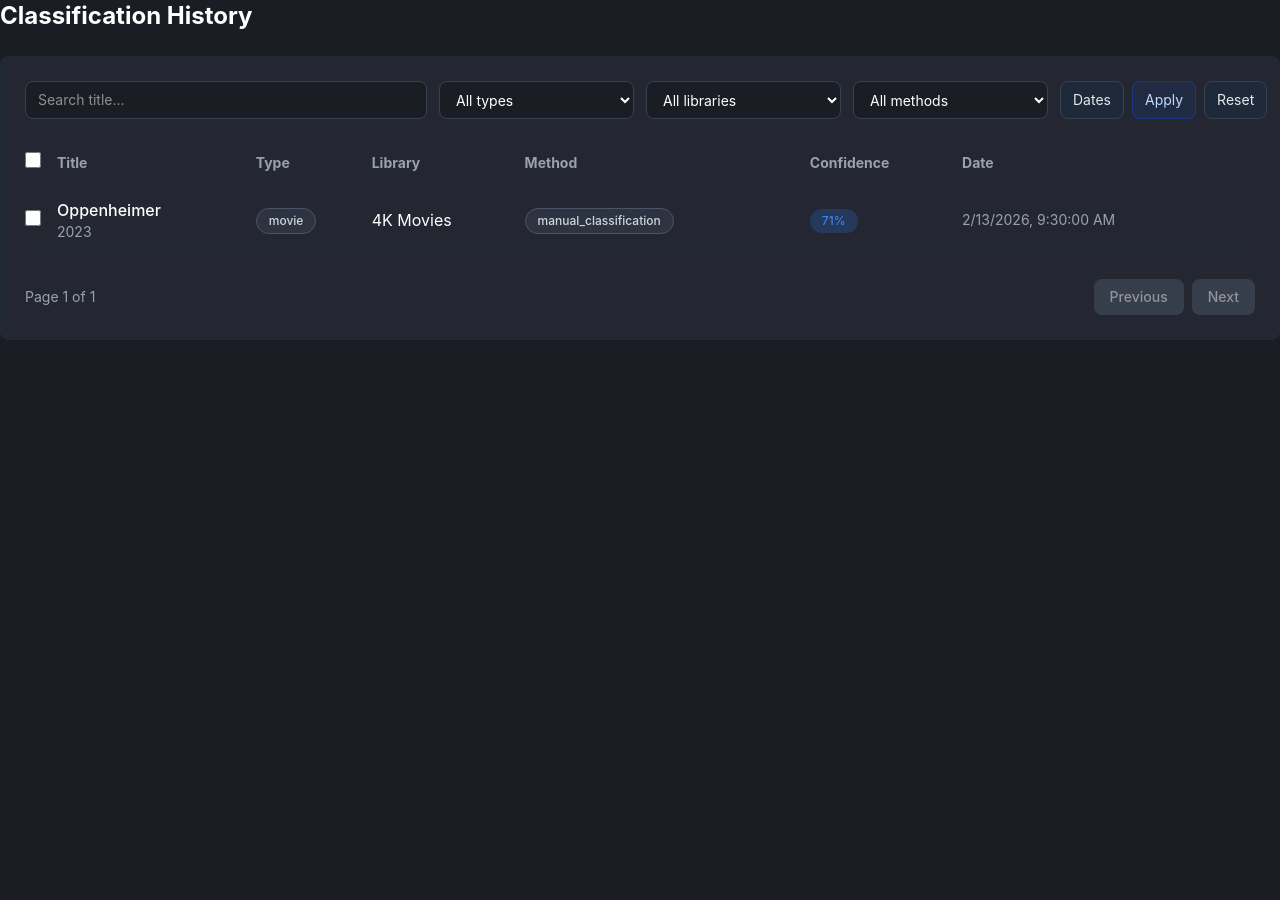
Test: History enhancements behavior › offers the explicit check for an unconfirmed manual record without checking on open
The width and height of the screenshot is (1280, 900).
Click the cell "Oppenheimer 2023" at (156, 220), box [57,186,256,254]
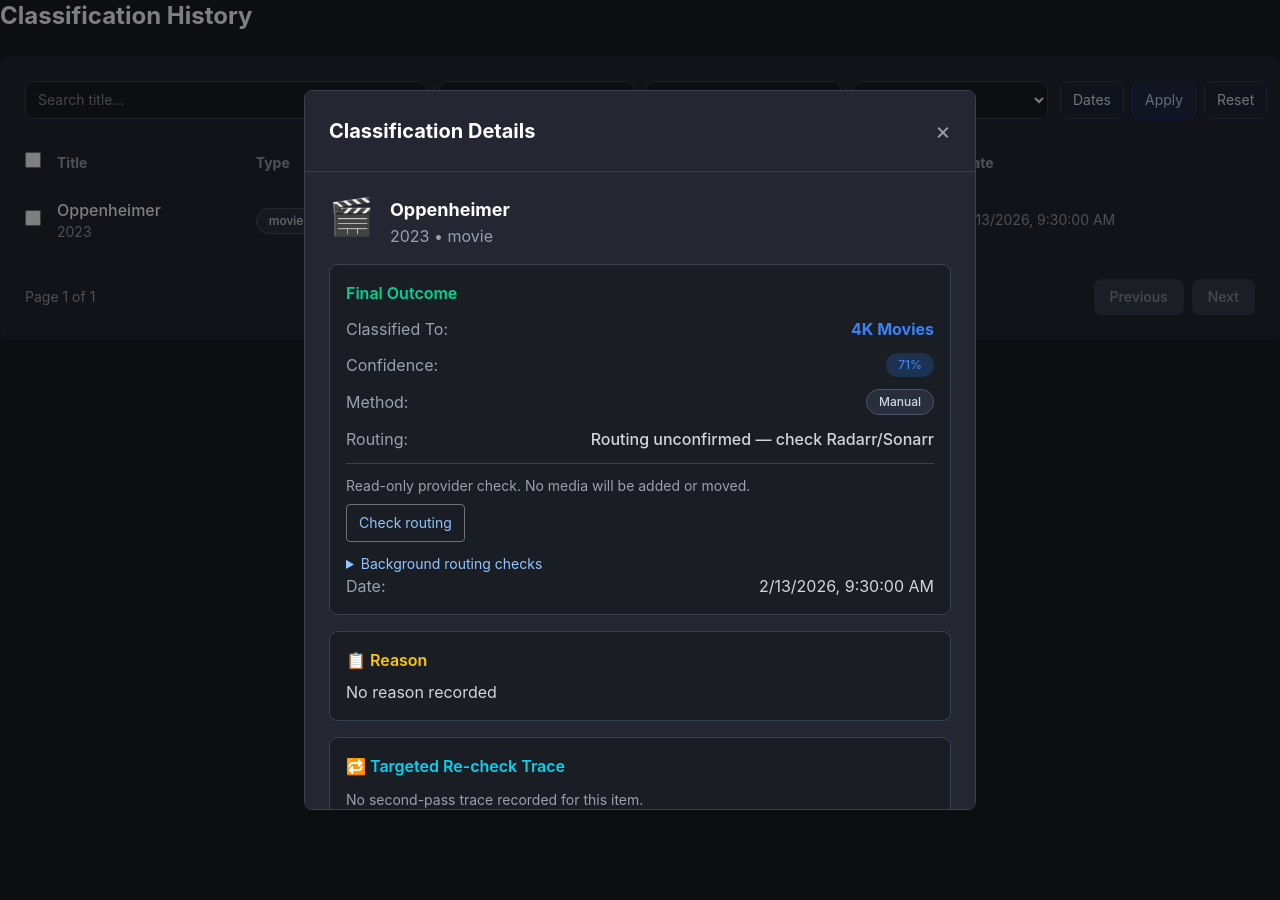
Result: the button "Check routing" is shown
Click the button "Check routing" at (405, 523), box [346,504,465,542]
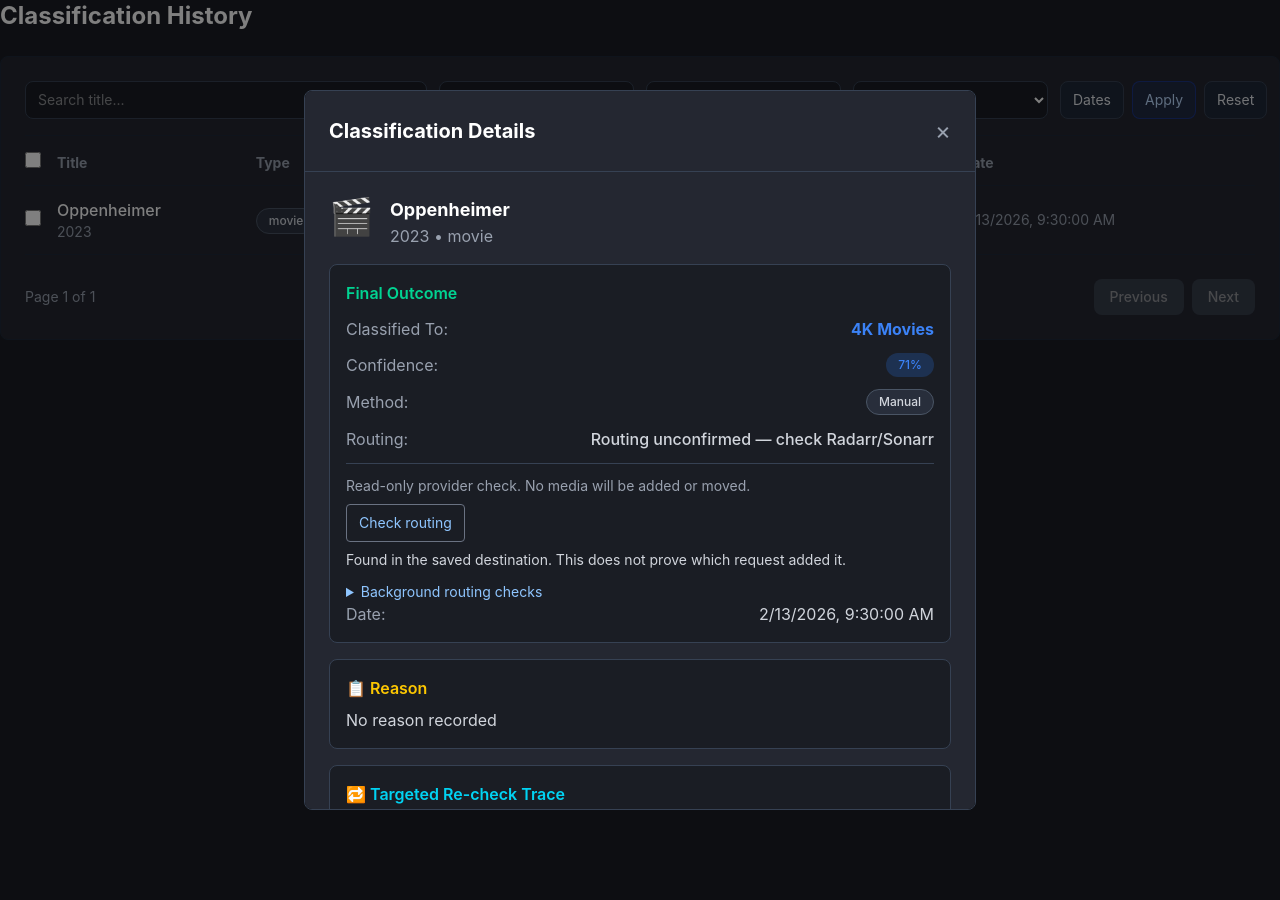
Result: the text "Routing unconfirmed" is shown at [591,429,934,449]
Result: the text "does not prove which request added it" is shown at [346,551,846,568]
